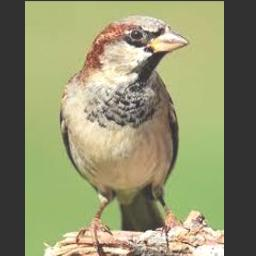Sparrow: (60, 16, 190, 252)
